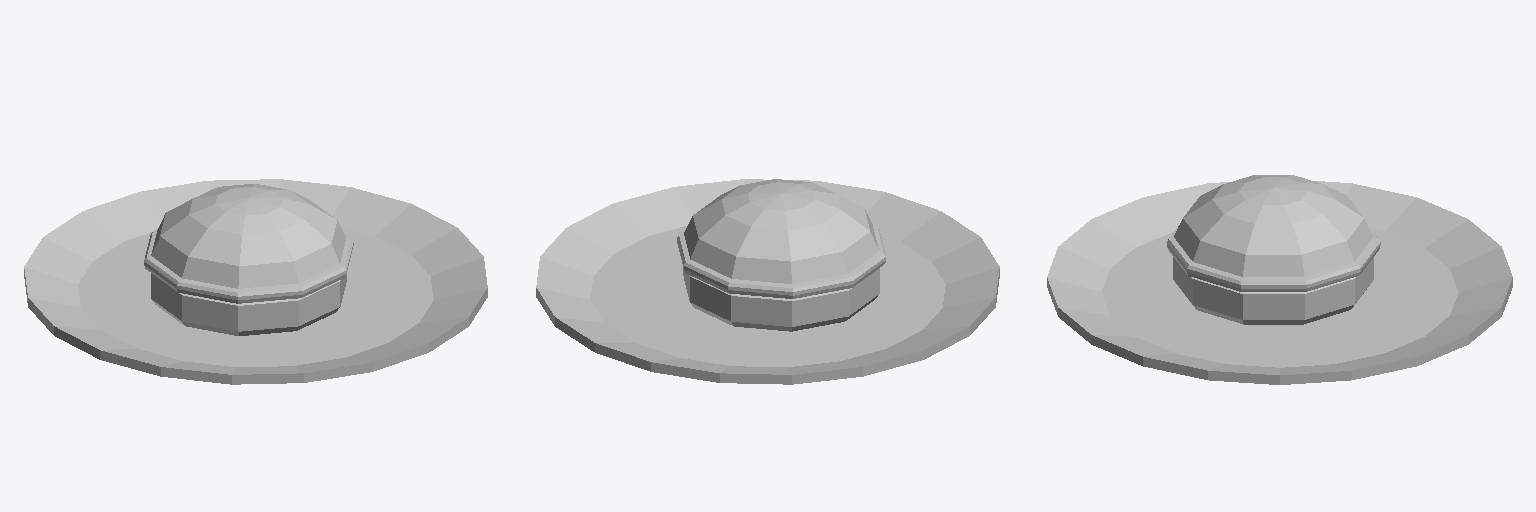
Rendered from PlateBurger.obj.
3 views of the same model, side by side, from view 1: azimuth 30°, elevation 25°; view 2: azimuth 150°, elevation 25°; view 3: azimuth 270°, elevation 25° (orthographic).
Bounding box in the file's own units: 0.2747 × 0.0819 × 0.2747.